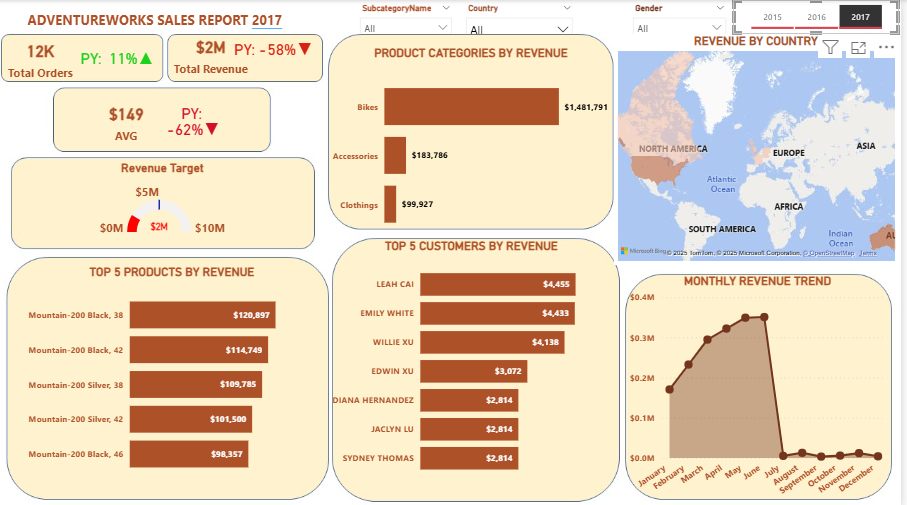

Layout of this report page (visuals, bound fields, positions):
{"tool":"powerbi","page":{"name":"SALES REPORT","canvas":[1280,720],"ordinal":3},"visuals":[{"type":"card","fields":{"Values":["DAX MEASURES.Total Orders"]},"box":[0,48.2,123.3,68],"z":0},{"type":"card","fields":{"Values":["AdventureWorks _Sales.Orders Growth %"]},"box":[106.3,48.2,129,68],"z":1000},{"type":"card","fields":{"Values":["DAX MEASURES.Total Revenue"]},"box":[243.8,36.9,119.1,79.4],"z":2000},{"type":"card","fields":{"Values":["AdventureWorks _Sales.Reveue Growth%"]},"box":[326,48.2,131.8,42.5],"z":3000},{"type":"card","fields":{"Values":["AdventureWorks _Sales.AVG Growth %"]},"box":[219.7,136.1,117.6,72.3],"z":4000},{"type":"card","fields":{"Values":["DAX MEASURES.AVG"]},"box":[122.8,116.5,120.3,111.4],"z":5000},{"type":"slicer","fields":{"Values":["Calendar.Year"]},"box":[1043.1,0,235.3,48.2],"z":6000},{"type":"gauge","title":" Revenue Target","fields":{"Y":["DAX MEASURES.Total Revenue"],"MaxValue":["DAX MEASURES.Rev Max"],"TargetValue":["DAX MEASURES.Rev Target"]},"box":[58.1,228.2,352.9,110.6],"z":7000},{"type":"clusteredBarChart","title":"TOP 5 PRODUCTS  BY REVENUE","fields":{"Y":["DAX MEASURES.Total Revenue"],"Category":["AdventureWorks_Products - AdventureWorks_Products.ProductName"]},"box":[38.3,375.6,419.5,313.2],"z":8000},{"type":"clusteredBarChart","title":"TOP 5 CUSTOMERS  BY REVENUE","fields":{"Y":["DAX MEASURES.Total Revenue"],"Category":["AdventureWorks_Customers - AdventureWorks_Customers (1).Full name"]},"box":[468.7,339.3,406.5,349.4],"z":9000},{"type":"clusteredBarChart","title":"PRODUCT CATEGORIES  BY REVENUE","fields":{"Y":["DAX MEASURES.Total Revenue"],"Category":["AdventureWorks_Product_Categories - AdventureWorks_Product_Categories.Category Name","AdventureWorks_Product_Subcategory - AdventureWorks_Product_Subcategory.SubcategoryName"]},"box":[469.1,65.2,405.4,286.3],"z":10000},{"type":"areaChart","title":" MONTHLY REVENUE TREND","fields":{"Category":["Calendar.month"],"Y":["DAX MEASURES.Total Revenue"]},"box":[892,388,372.9,332.6],"z":11000},{"type":"slicer","fields":{"Values":["AdventureWorks_Territories - AdventureWorks_Territories.Country"]},"box":[654.8,0,171.5,48.2],"z":12000},{"type":"slicer","fields":{"Values":["AdventureWorks_Customers - AdventureWorks_Customers (1).Gender"]},"box":[891.5,0,151.7,48.2],"z":13000},{"type":"slicer","fields":{"Values":["AdventureWorks_Product_Subcategory - AdventureWorks_Product_Subcategory.SubcategoryName"]},"box":[504.6,0,150.2,48.2],"z":14000},{"type":"textbox","box":[38.3,9.9,447.9,38.3],"z":15000},{"type":"filledMap","title":" REVENUE BY COUNTRY","fields":{"Category":["AdventureWorks_Territories - AdventureWorks_Territories.Country"]},"box":[874.5,48.2,402.5,327.4],"z":16000}]}

Visuals, with their boxes in screenshot pixels (x1, y1, x2, y2), scaled from the page's 1280x720 canvas onto the 907x505 screenshot:
card - DAX MEASURES.Total Orders: 0 34 87 82
card - AdventureWorks _Sales.Orders Growth %: 75 34 167 82
card - DAX MEASURES.Total Revenue: 173 26 257 82
card - AdventureWorks _Sales.Reveue Growth%: 231 34 324 64
card - AdventureWorks _Sales.AVG Growth %: 156 95 239 146
card - DAX MEASURES.AVG: 87 82 172 160
slicer - Calendar.Year: 739 0 906 34
" Revenue Target" gauge: 41 160 291 238
"TOP 5 PRODUCTS  BY REVENUE" clusteredBarChart: 27 263 324 483
"TOP 5 CUSTOMERS  BY REVENUE" clusteredBarChart: 332 238 620 483
"PRODUCT CATEGORIES  BY REVENUE" clusteredBarChart: 332 46 620 247
" MONTHLY REVENUE TREND" areaChart: 632 272 896 504
slicer - AdventureWorks_Territories - AdventureWorks_Territories.Country: 464 0 586 34
slicer - AdventureWorks_Customers - AdventureWorks_Customers (1).Gender: 632 0 739 34
slicer - AdventureWorks_Product_Subcategory - AdventureWorks_Product_Subcategory.SubcategoryName: 358 0 464 34
textbox: 27 7 345 34
" REVENUE BY COUNTRY" filledMap: 620 34 905 263
